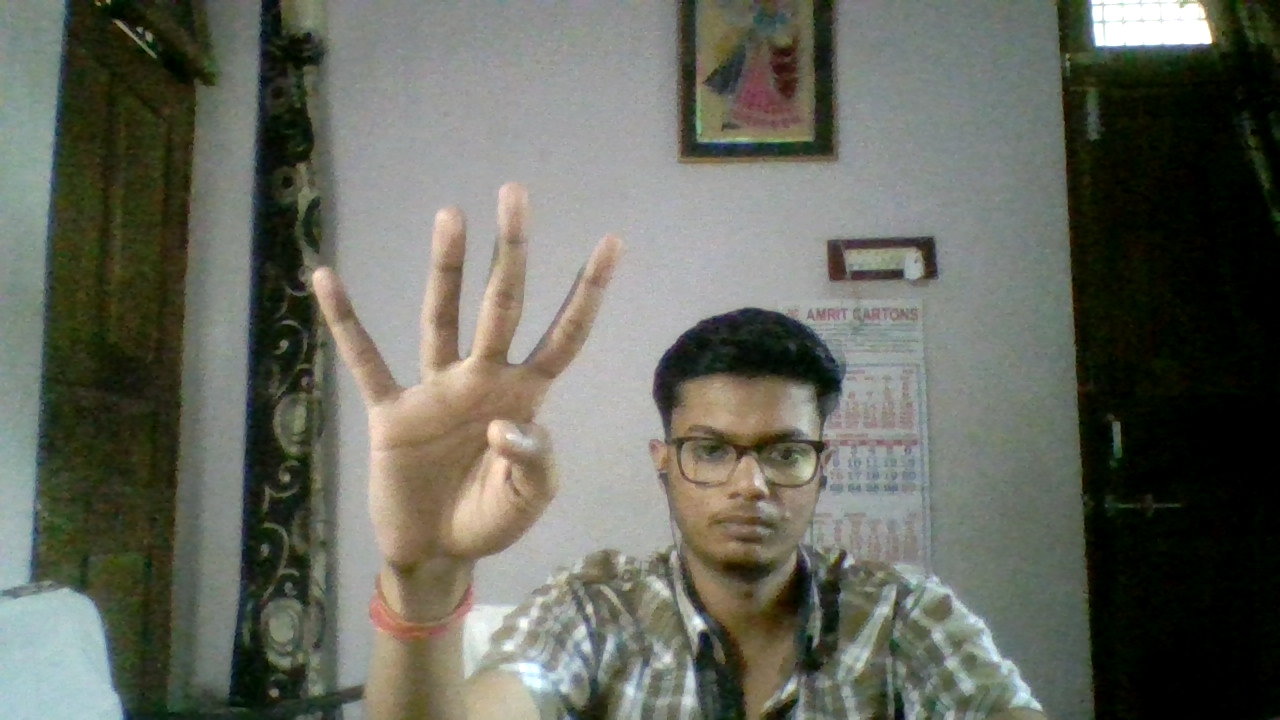four: (255, 171, 642, 573)
